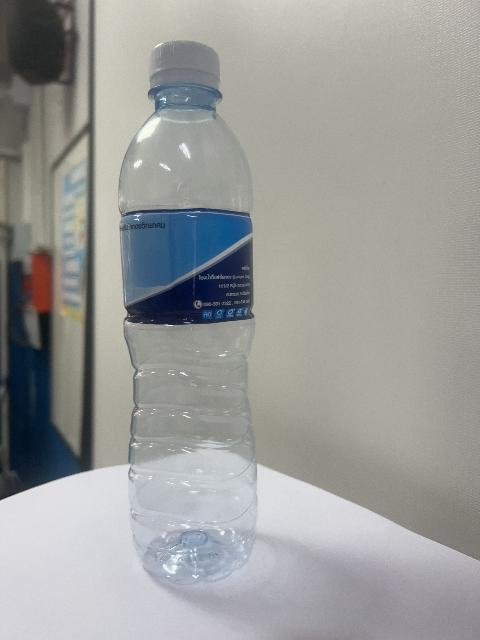bottle: (120, 41, 256, 583)
